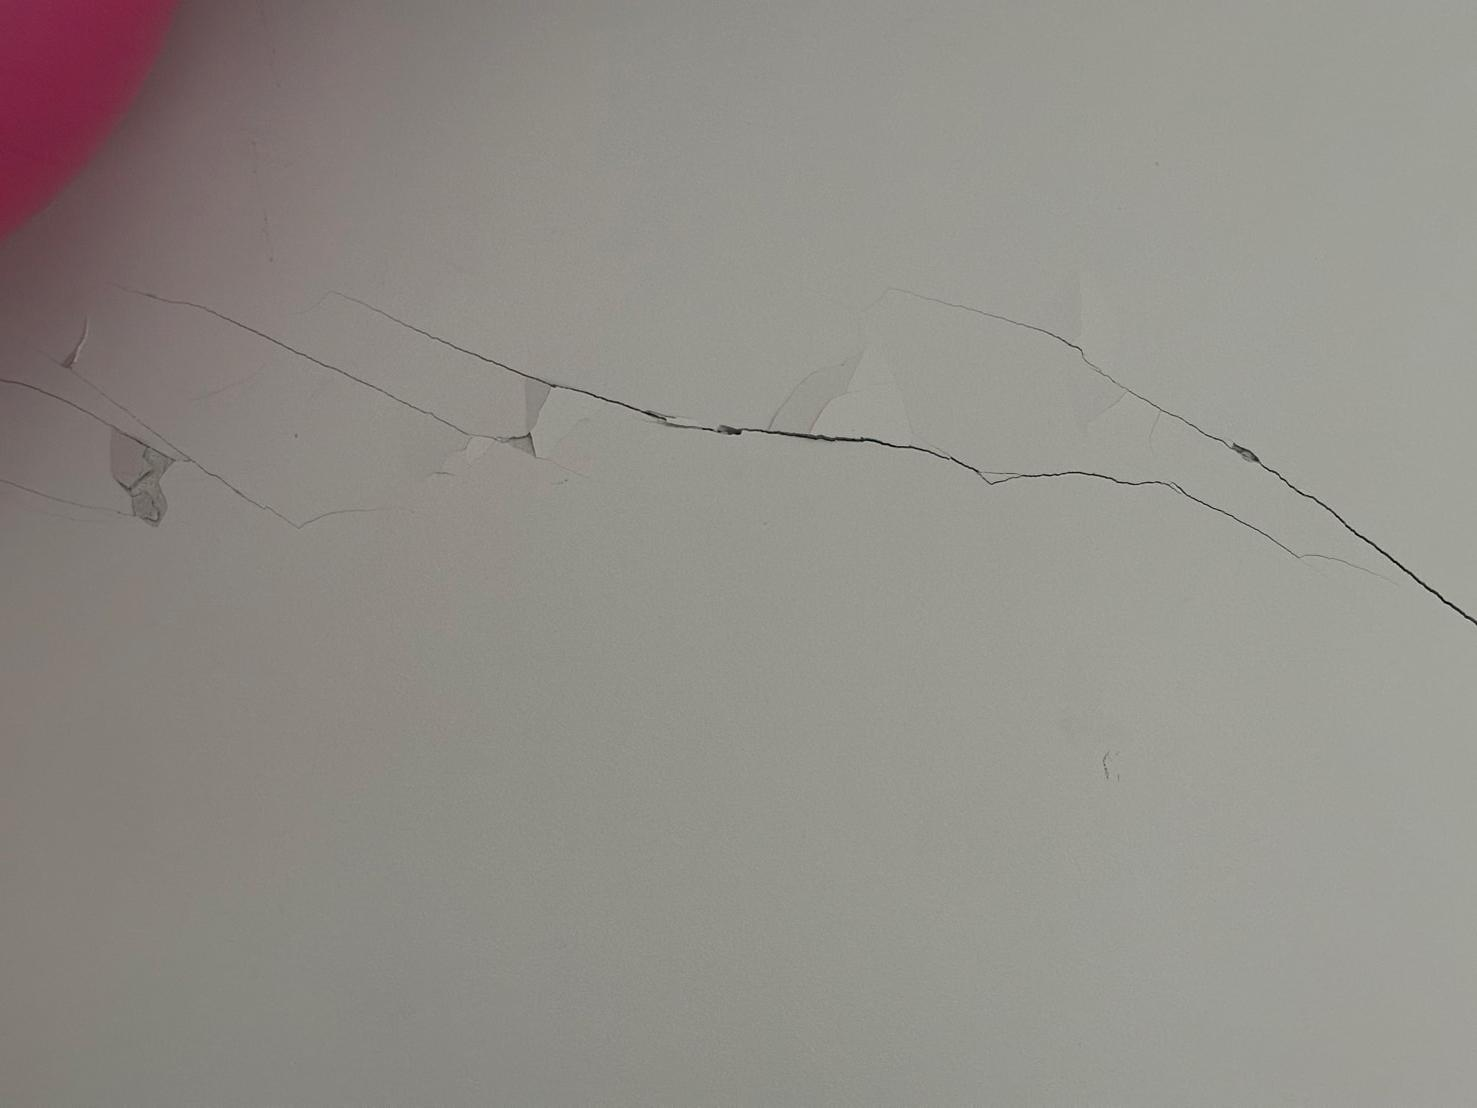Low: (2, 253, 1477, 796)
